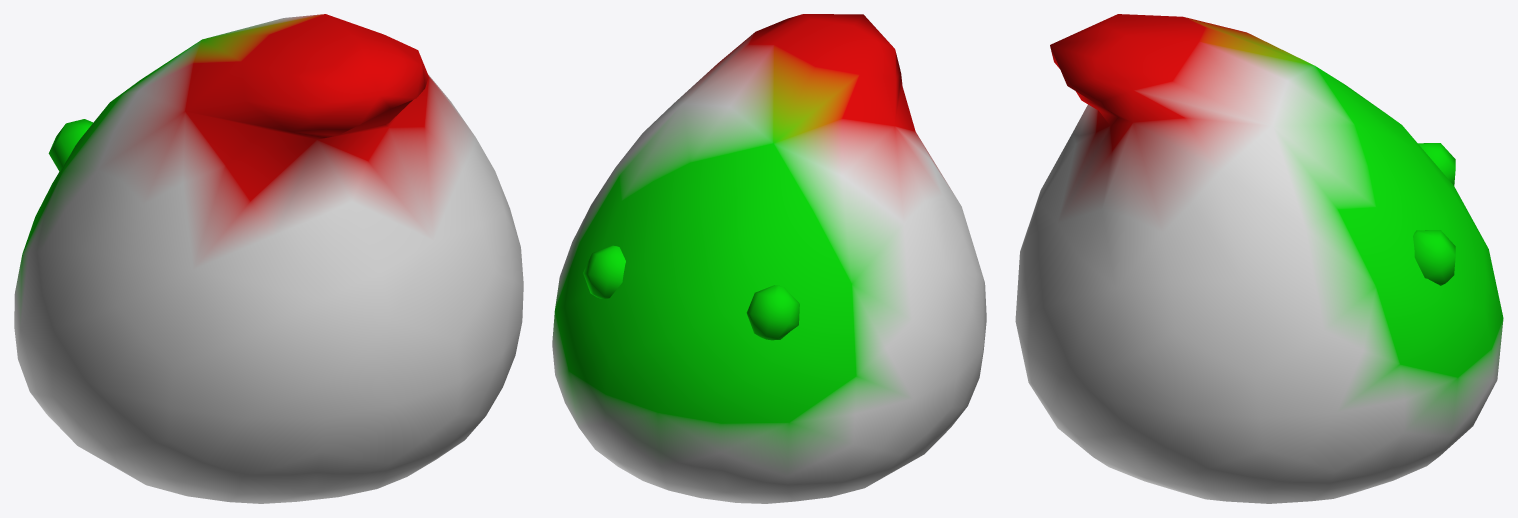
The model's file is Slime.fbx.
The picture shows the model from 3 angles, left to right: view 1: azimuth 30°, elevation 25°; view 2: azimuth 150°, elevation 25°; view 3: azimuth 270°, elevation 25°; orthographic projection. The views are drawn at different scales.
Visible parts, largest first — view 1: Slime; view 2: Slime; view 3: Slime.
Boxes of the visible parts, box(x1,y1,x2,y2) form: Slime: box(14, 14, 523, 503); Slime: box(552, 14, 986, 503); Slime: box(1015, 14, 1503, 503).
Size of the model in its own units: 185 by 190 by 189.
